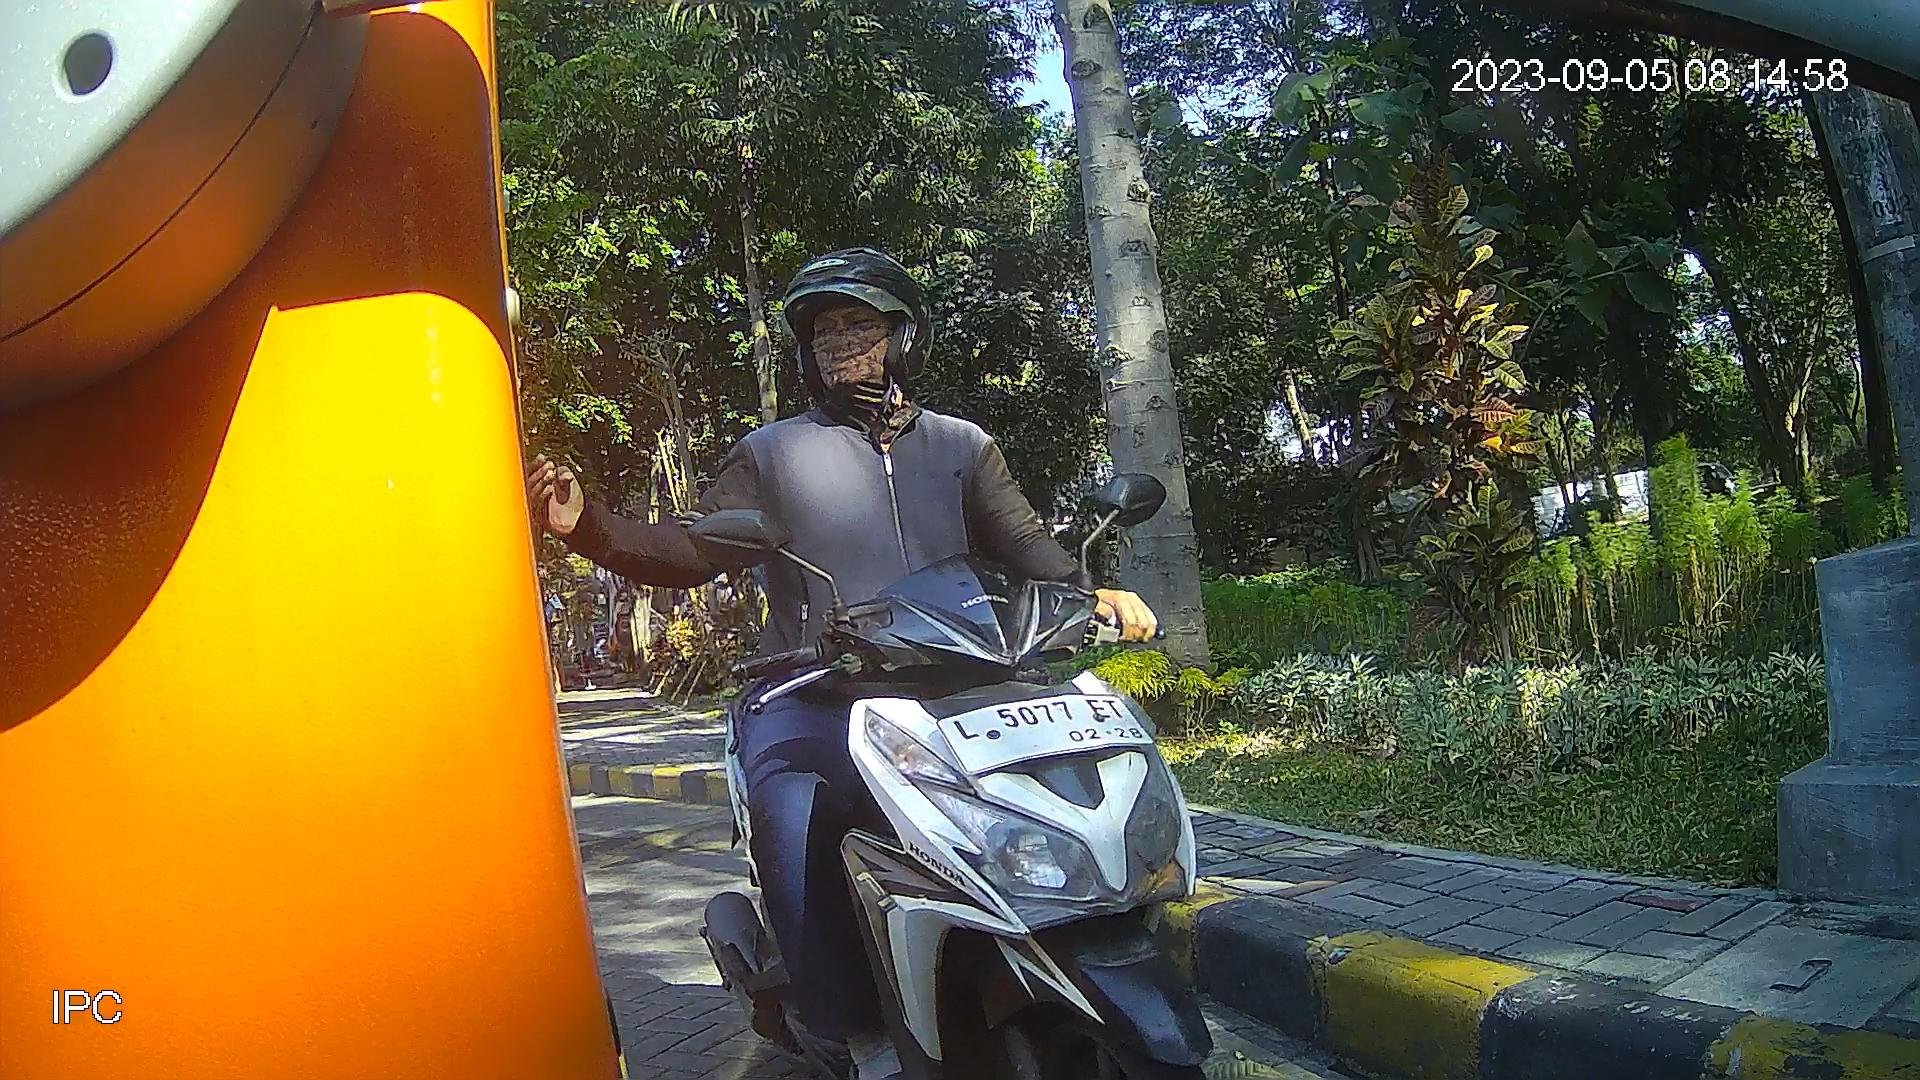plat: (932, 694, 1158, 778)
